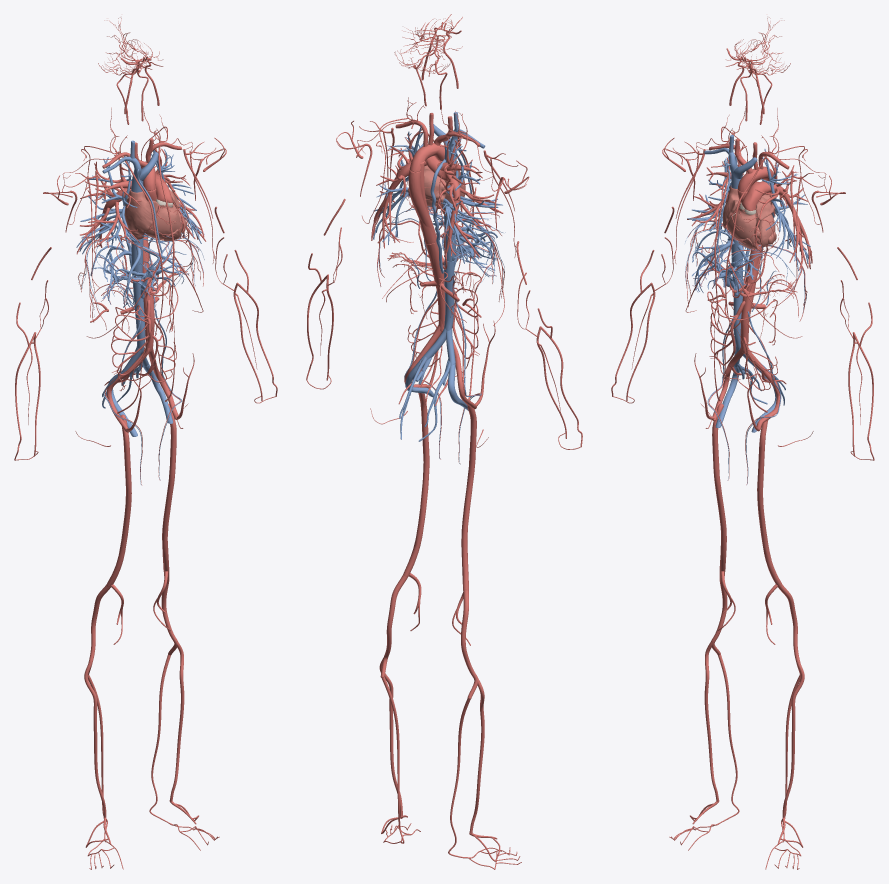
File: cardiovascular.glb
3 renders of one model, left to right at view 1: azimuth 30°, elevation 25°; view 2: azimuth 150°, elevation 25°; view 3: azimuth 330°, elevation 25°, orthographic. The views are drawn at different scales.
Parts seen in each view (by area): view 1: right pulmonary artery, right femoral artery, right atrium, left femoral artery, left portal vein, right ventricle, inferior vena cava, right superior pulmonary vein, right anterior tibial artery, left anterior tibial artery, left pulmonary artery, left posterior tibial artery; view 2: right pulmonary artery, descending aorta, left pulmonary artery, right femoral artery, left femoral artery, inferior vena cava, right inferior pulmonary vein, right anterior tibial artery, right superior pulmonary vein, right popliteal artery, left popliteal artery, left atrium (+2 smaller); view 3: left pulmonary artery, left femoral artery, right femoral artery, right ventricle, right pulmonary artery, left portal vein, left superior pulmonary vein, inferior vena cava, left anterior tibial artery, right anterior tibial artery, abdominal aorta, left ventricle (+1 smaller).
Part boxes in pixels (<box>): right pulmonary artery: <box>76,151,157,322</box>; right femoral artery: <box>106,414,131,587</box>; right atrium: <box>124,189,157,239</box>; left femoral artery: <box>162,403,176,572</box>; left portal vein: <box>109,241,189,307</box>; right ventricle: <box>144,204,181,241</box>; inferior vena cava: <box>131,238,145,351</box>; right superior pulmonary vein: <box>89,156,137,247</box>; right anterior tibial artery: <box>84,663,106,817</box>; left anterior tibial artery: <box>170,642,184,801</box>; left pulmonary artery: <box>147,143,206,242</box>; left posterior tibial artery: <box>149,654,170,822</box>; right pulmonary artery: <box>426,138,503,317</box>; descending aorta: <box>408,161,445,326</box>; left pulmonary artery: <box>371,129,426,248</box>; right femoral artery: <box>461,400,476,590</box>; left femoral artery: <box>403,393,429,576</box>; inferior vena cava: <box>444,215,456,331</box>; right inferior pulmonary vein: <box>439,198,488,263</box>; right anterior tibial artery: <box>469,678,484,833</box>; right superior pulmonary vein: <box>446,136,502,207</box>; right popliteal artery: <box>461,590,477,699</box>; left popliteal artery: <box>380,574,407,677</box>; left atrium: <box>408,165,447,206</box>; left pulmonary artery: <box>755,153,812,270</box>; left femoral artery: <box>757,415,781,587</box>; right femoral artery: <box>712,403,726,572</box>; right ventricle: <box>727,208,759,249</box>; right pulmonary artery: <box>687,144,758,300</box>; left portal vein: <box>692,242,766,292</box>; left superior pulmonary vein: <box>761,149,807,258</box>; inferior vena cava: <box>731,235,743,349</box>; left anterior tibial artery: <box>782,663,804,817</box>; right anterior tibial artery: <box>704,642,718,801</box>; abdominal aorta: <box>741,258,760,353</box>; left ventricle: <box>754,214,776,246</box>.
Bounding box in the file's own units: 0.559 × 1.65 × 0.2133.
